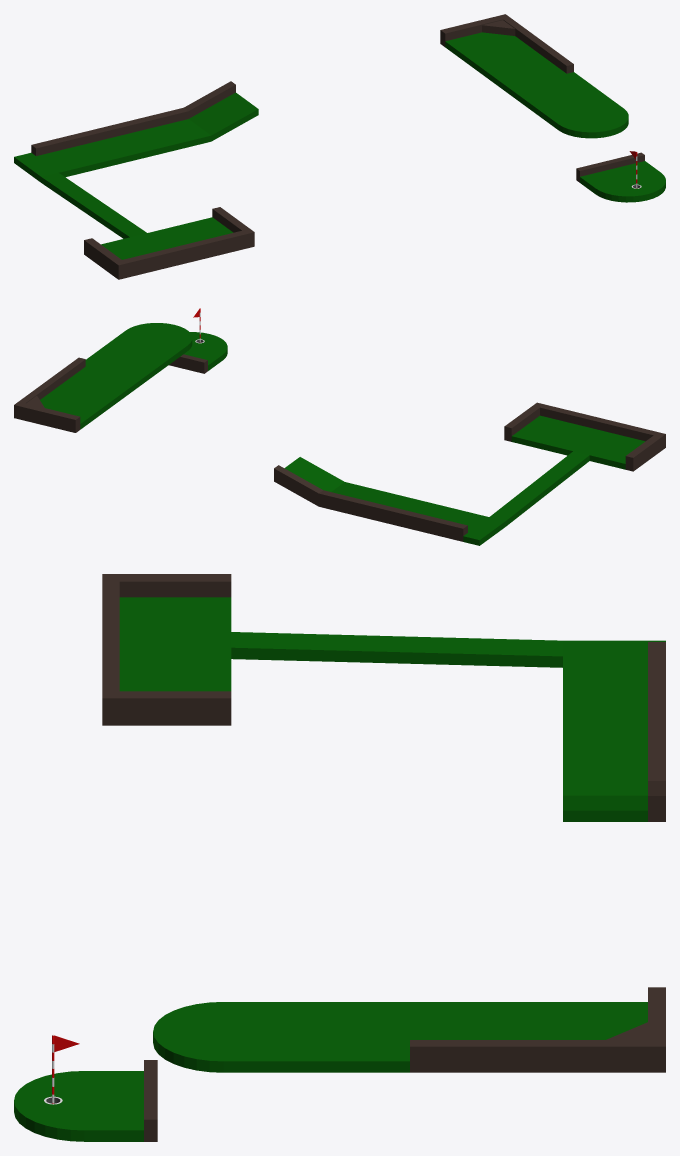
The model's file is Course3.fbx.
The picture shows the model from 3 angles, top to bottom: view 1: azimuth 30°, elevation 25°; view 2: azimuth 150°, elevation 25°; view 3: azimuth 270°, elevation 25°; orthographic projection. The views are drawn at different scales.
Visible parts, largest first — view 1: Course, Course.001, Course.002; view 2: Course, Course.001, Course.002; view 3: Course, Course.001, Course.002.
Boxes of the visible parts, x1,y1,x2,y2 form: Course: (14,81,258,279); Course.001: (440,14,628,138); Course.002: (576,152,665,202); Course: (274,402,665,545); Course.001: (14,323,192,432); Course.002: (169,332,227,373); Course: (102,574,665,821); Course.001: (153,987,665,1072); Course.002: (14,1060,157,1141).
Bounding box in the file's own units: 5130 × 488 × 2879.
